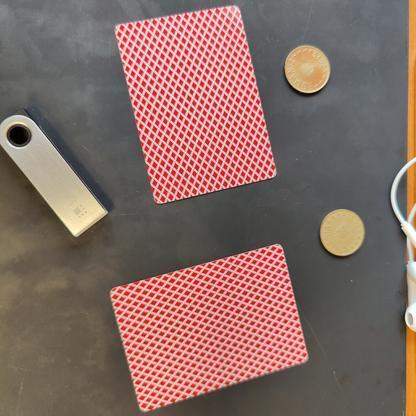card: (97, 239, 315, 413), (111, 1, 283, 211)
